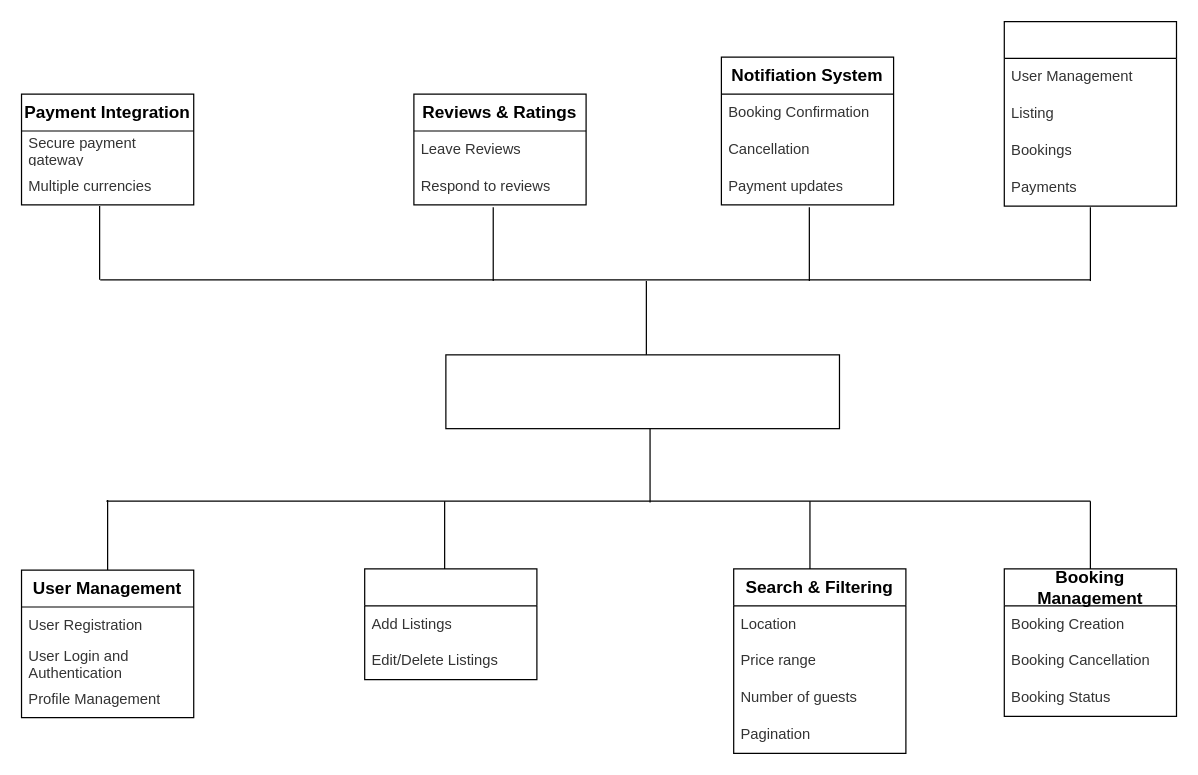
The diagram is 1198 pixels wide and 775 high, and some of its shapes have lost their labels. The shapes that lost their labels are listed below. From the top down, each one's box as (x1, y1, x2, y2) in pixels, then its label:
(1003, 20, 1176, 206): Admin Dashboard
(445, 354, 839, 429): Features and Functionalities
(363, 568, 537, 680): Property Listings Management
